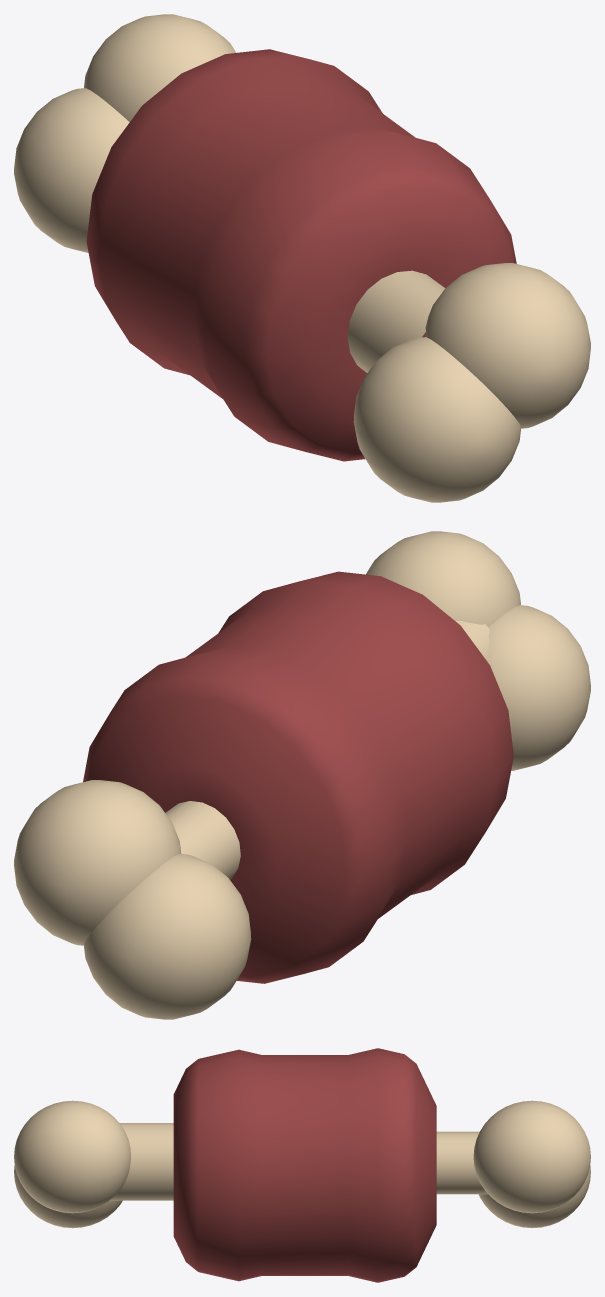
The model's file is pickup_Meat_mesh.fbx.
The picture shows the model from 3 angles, top to bottom: view 1: azimuth 30°, elevation 25°; view 2: azimuth 150°, elevation 25°; view 3: azimuth 270°, elevation 25°; orthographic projection. The views are drawn at different scales.
Parts seen in each view (by area): view 1: pickup_Meat; view 2: pickup_Meat; view 3: pickup_Meat.
Part boxes in pixels (bbox=[...]): pickup_Meat: bbox=[14, 14, 590, 502]; pickup_Meat: bbox=[14, 531, 590, 1019]; pickup_Meat: bbox=[14, 1048, 590, 1282].
Bounding box in the file's own units: 3.36 × 3.36 × 8.23.
1 material, 1 textured.
